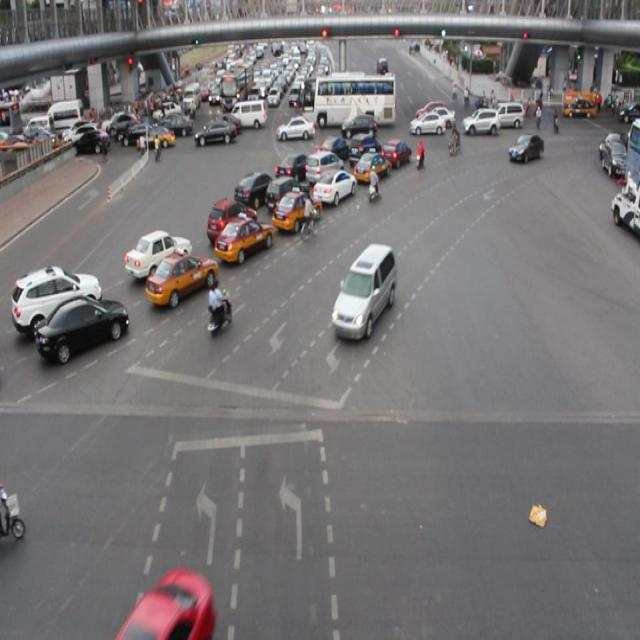car: (118, 569, 218, 640), (332, 243, 397, 334), (11, 270, 102, 331), (38, 296, 128, 351), (145, 252, 217, 300), (125, 230, 192, 274), (215, 215, 273, 256), (271, 186, 318, 232), (208, 199, 255, 242), (305, 149, 345, 186), (233, 172, 276, 206), (266, 175, 309, 209), (312, 170, 356, 202), (352, 149, 390, 182), (506, 132, 544, 164), (275, 152, 312, 182), (349, 134, 382, 166), (381, 137, 411, 165), (319, 136, 350, 160)
